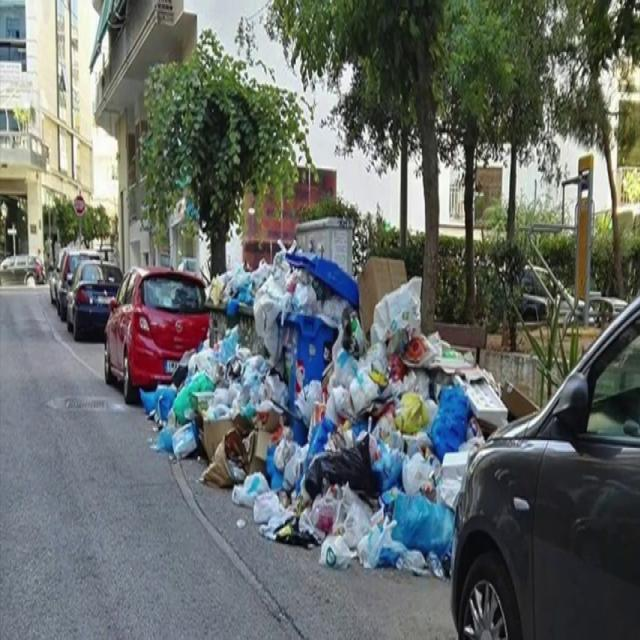garbage: (151, 253, 475, 580)
